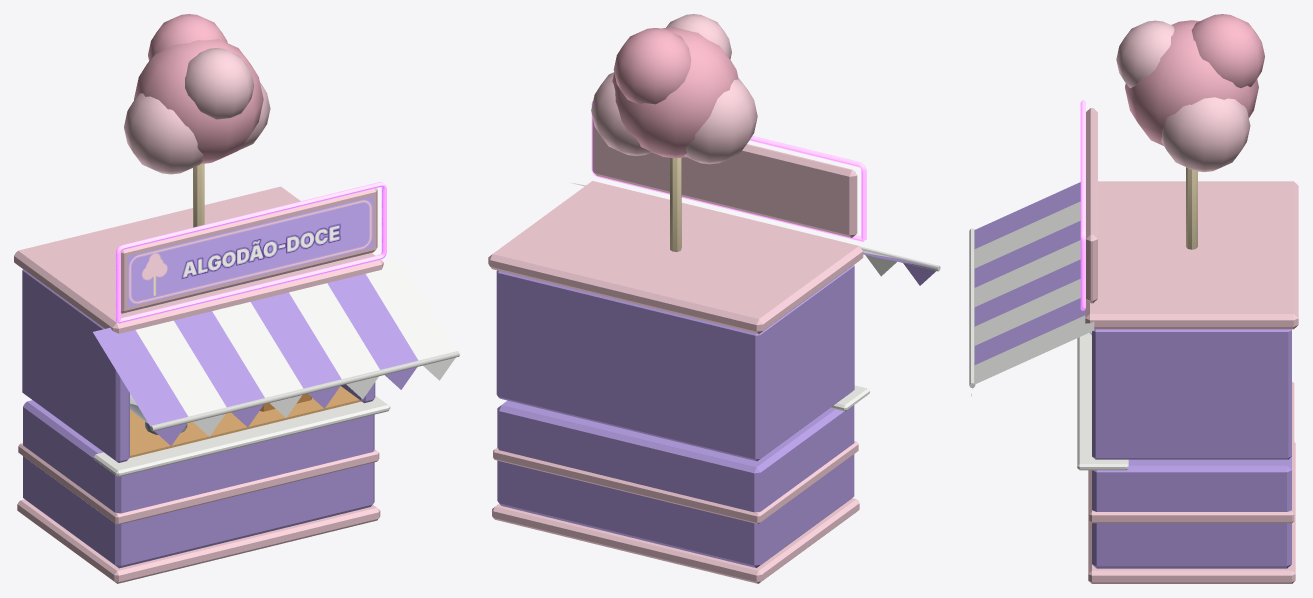
The model's file is quiosque_algodao_doce.glb.
3 views of the same model, side by side, from view 1: azimuth 30°, elevation 25°; view 2: azimuth 150°, elevation 25°; view 3: azimuth 270°, elevation 25° (orthographic). The views are drawn at different scales.
Visible parts, largest first — view 1: quiosque_algodao_doce; view 2: quiosque_algodao_doce; view 3: quiosque_algodao_doce.
Part boxes in pixels (<box>): quiosque_algodao_doce: <box>14,14,459,583</box>; quiosque_algodao_doce: <box>488,14,940,583</box>; quiosque_algodao_doce: <box>969,14,1298,583</box>.
Size of the model in its own units: 3 by 4.55 by 2.7.
Materials: 4 (2 with a texture image).
